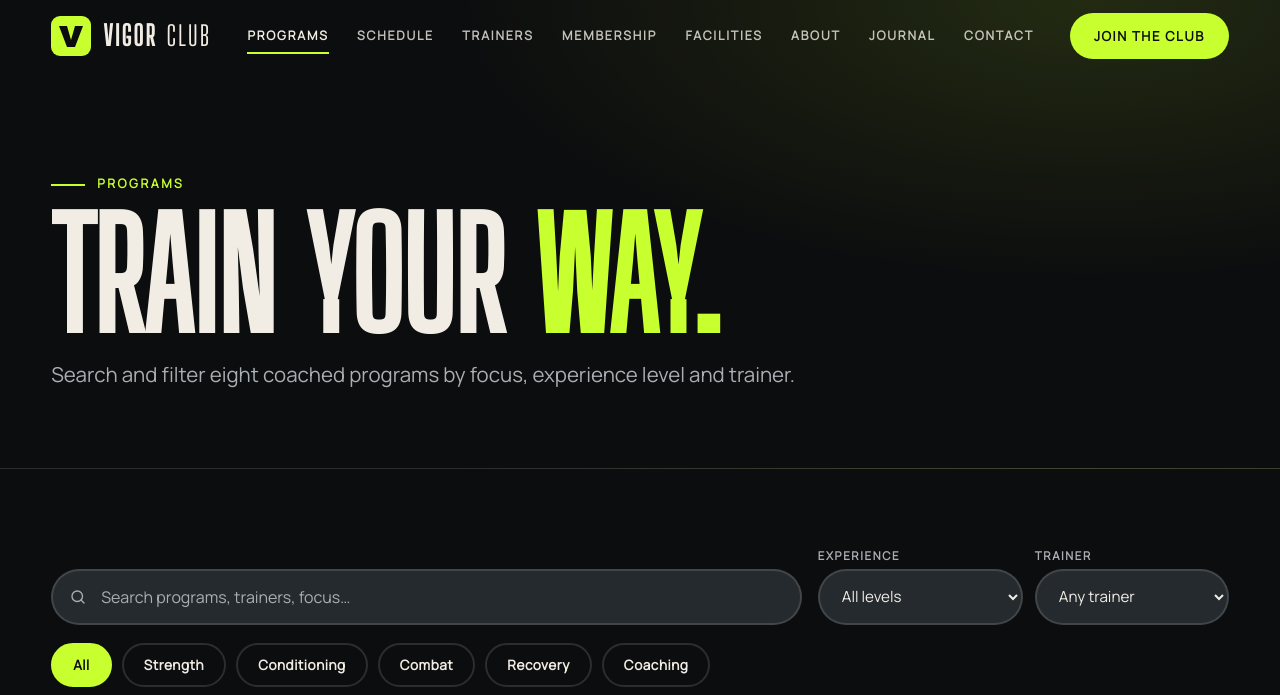
it: programs › filters by experience level and trainer
The width and height of the screenshot is (1280, 695).
Select "Advanced" in the dropdown labelled "Experience": (920, 597) [818,569,1023,625]
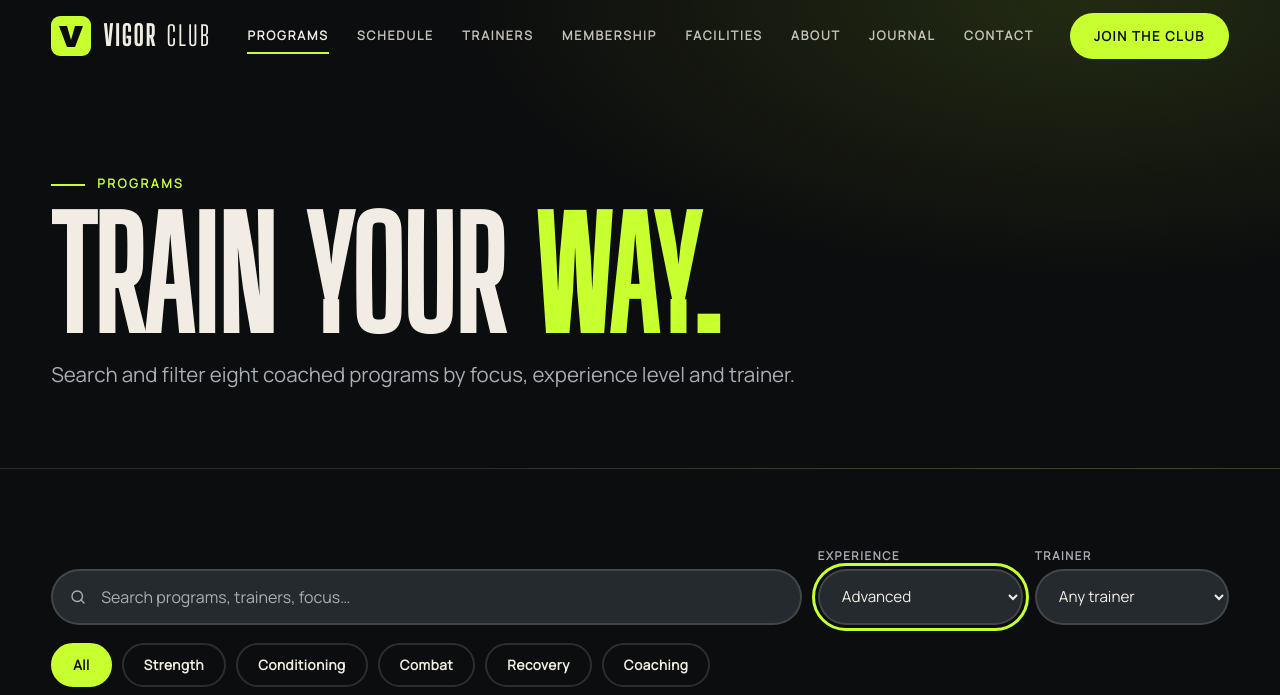
Select "All levels" in the dropdown labelled "Experience": (920, 597) [818,569,1023,625]
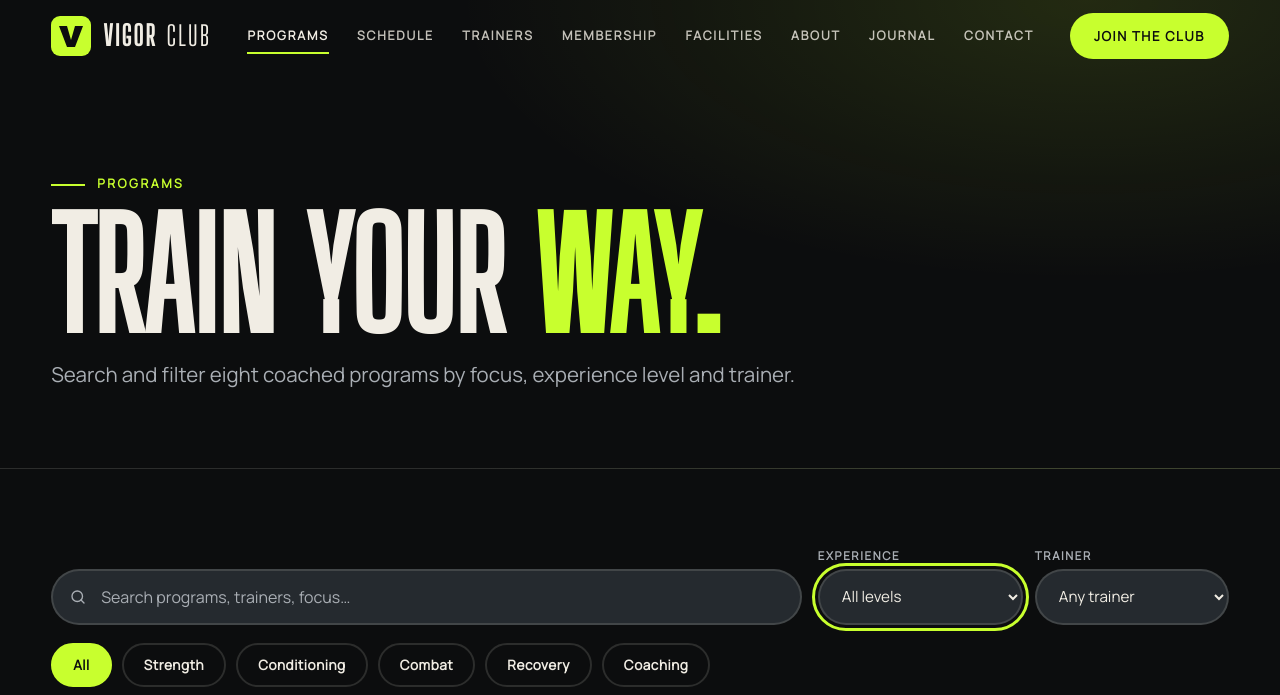
Select "Priya Raman" in the dropdown labelled "Trainer": (1132, 597) [1035,569,1229,625]
(page scrolled)
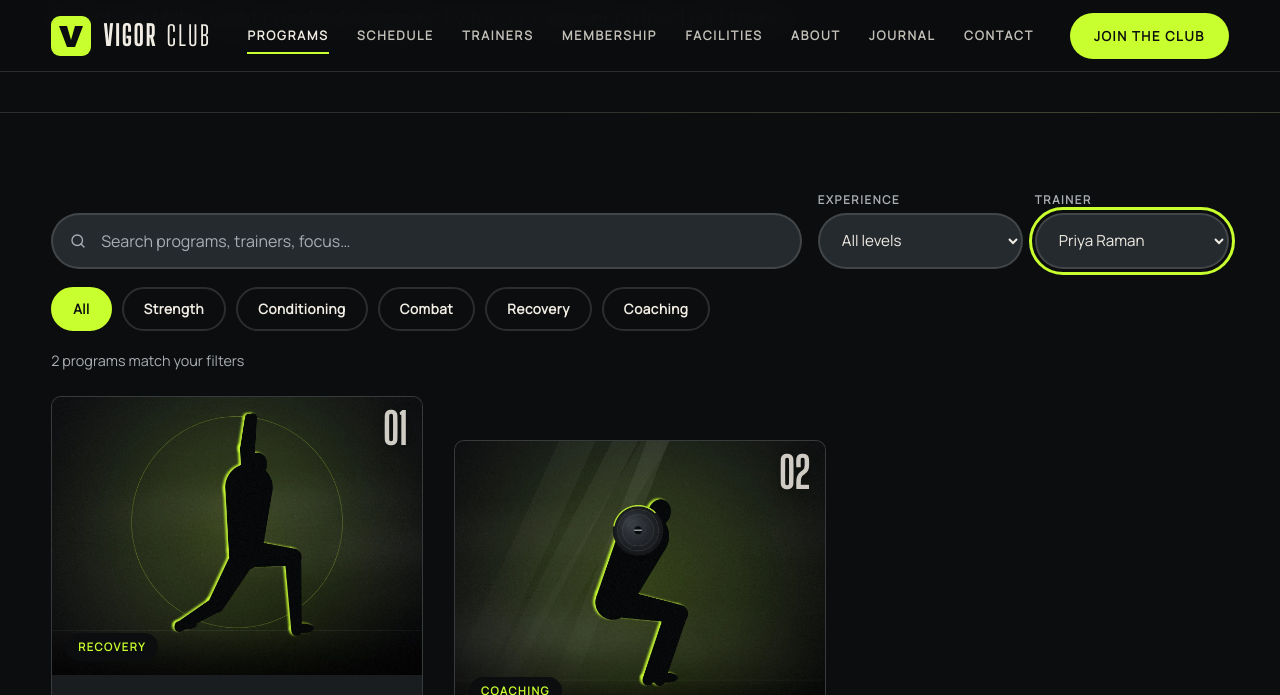
Check: the text "2 programs match your filters" is shown, box [51,351,244,370]
